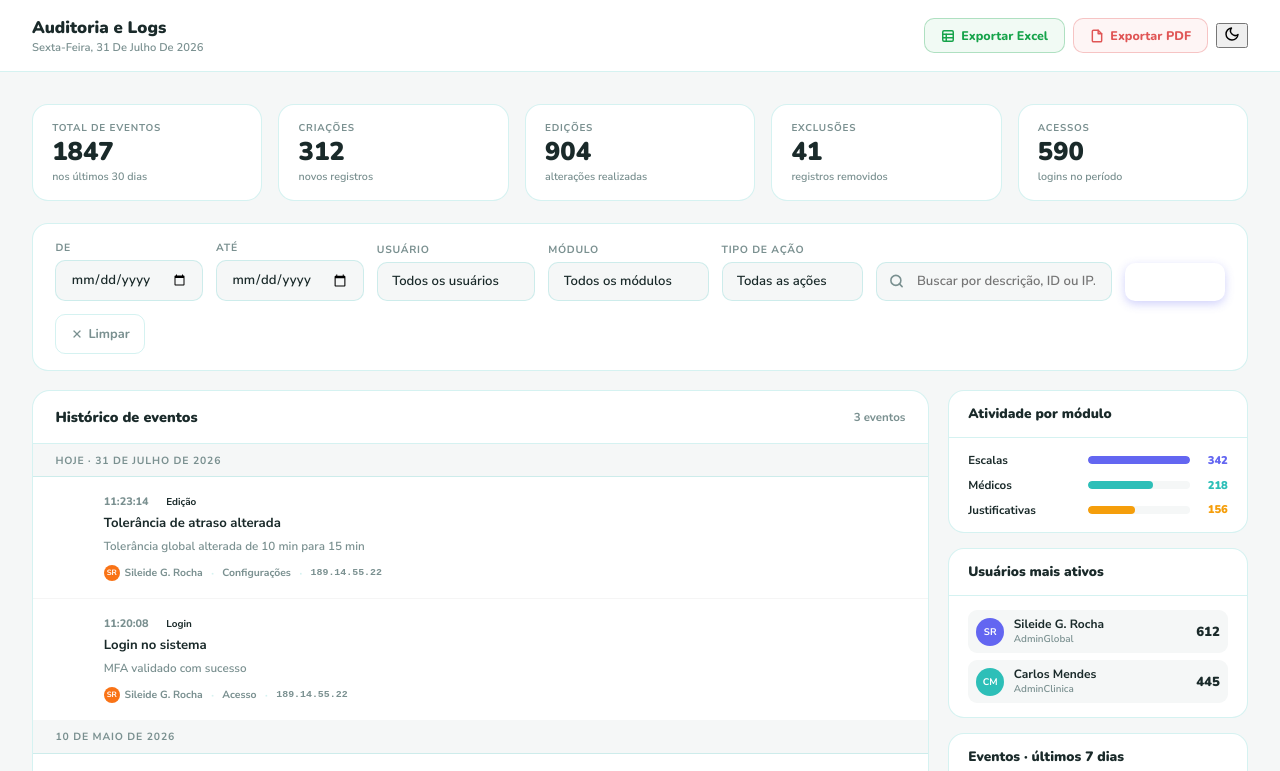
Test case: <AdminAuditoria /> › abre panel de detalhes ao clicar em um item
Click the element with class "aud-log-item" that starts with "Edição". click: (480, 538)
box: [33, 477, 928, 599]
(page scrolled)
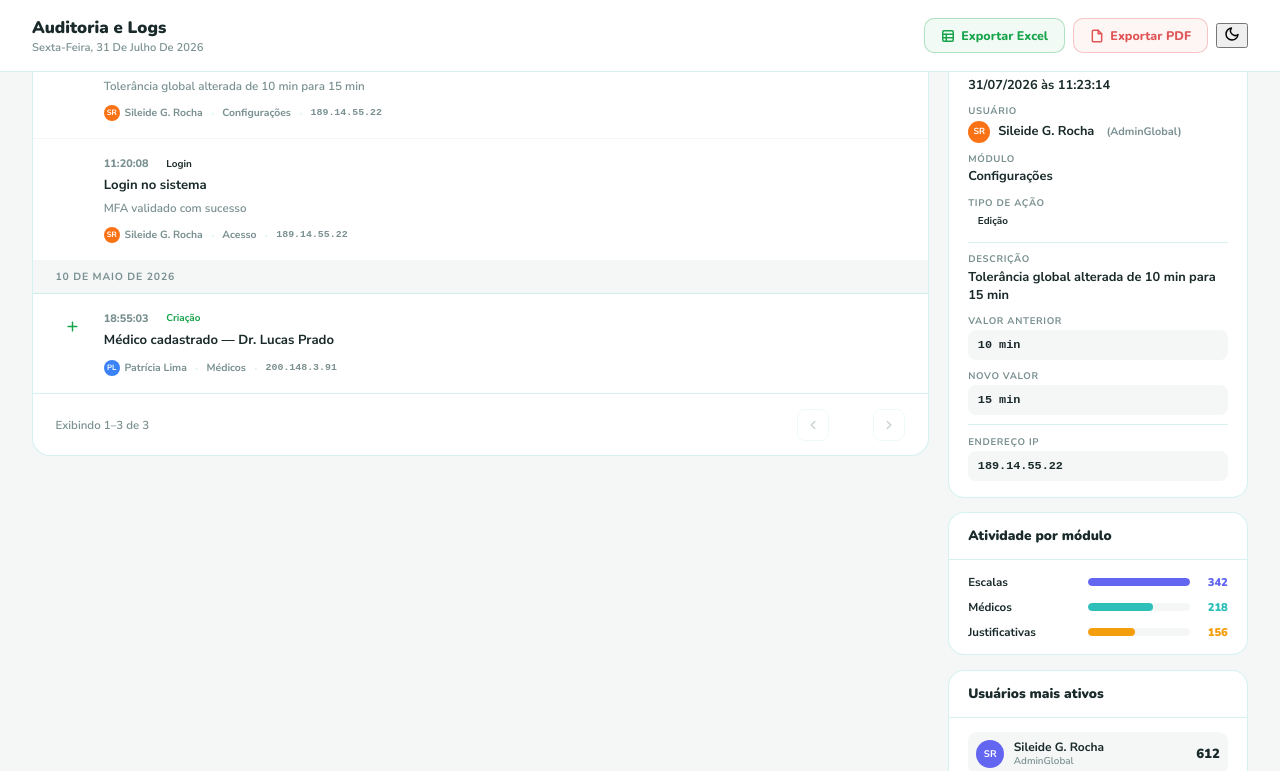
Now the text "Valor anterior" is shown, box [968, 314, 1062, 327]
Now the text "10 min" is shown, box [968, 330, 1228, 360]
Now the text "15 min" is shown, box [968, 385, 1228, 415]
